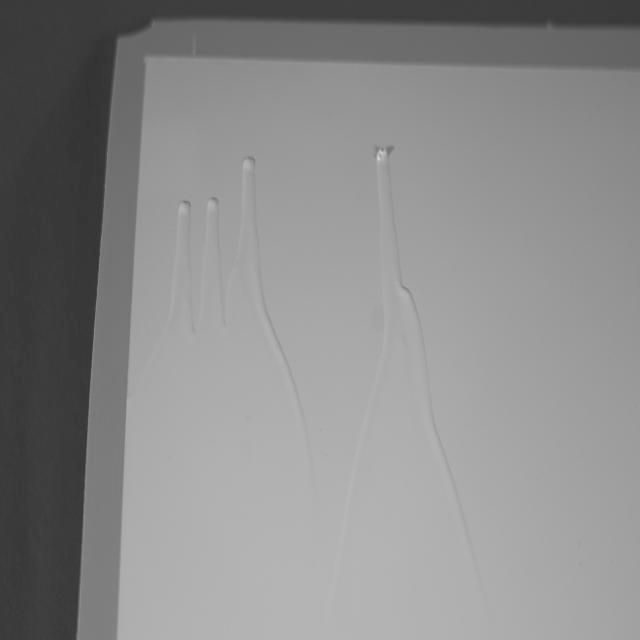paint drips: (140, 132, 502, 631)
